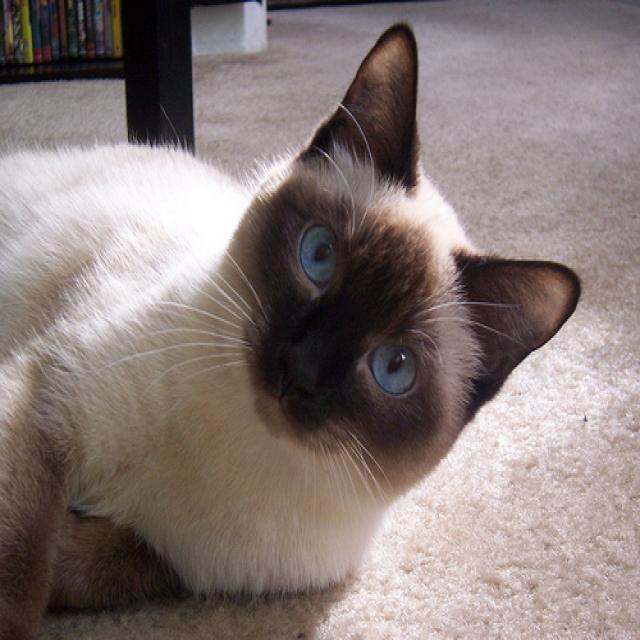Siamese: (233, 21, 579, 464)
